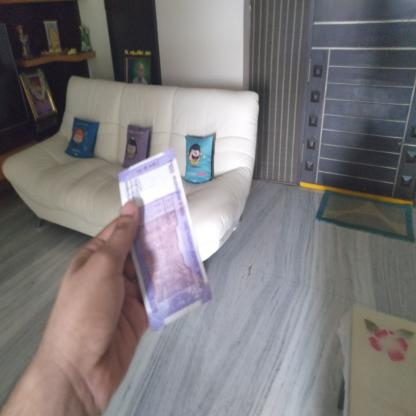New100Back: (126, 155, 204, 317)
